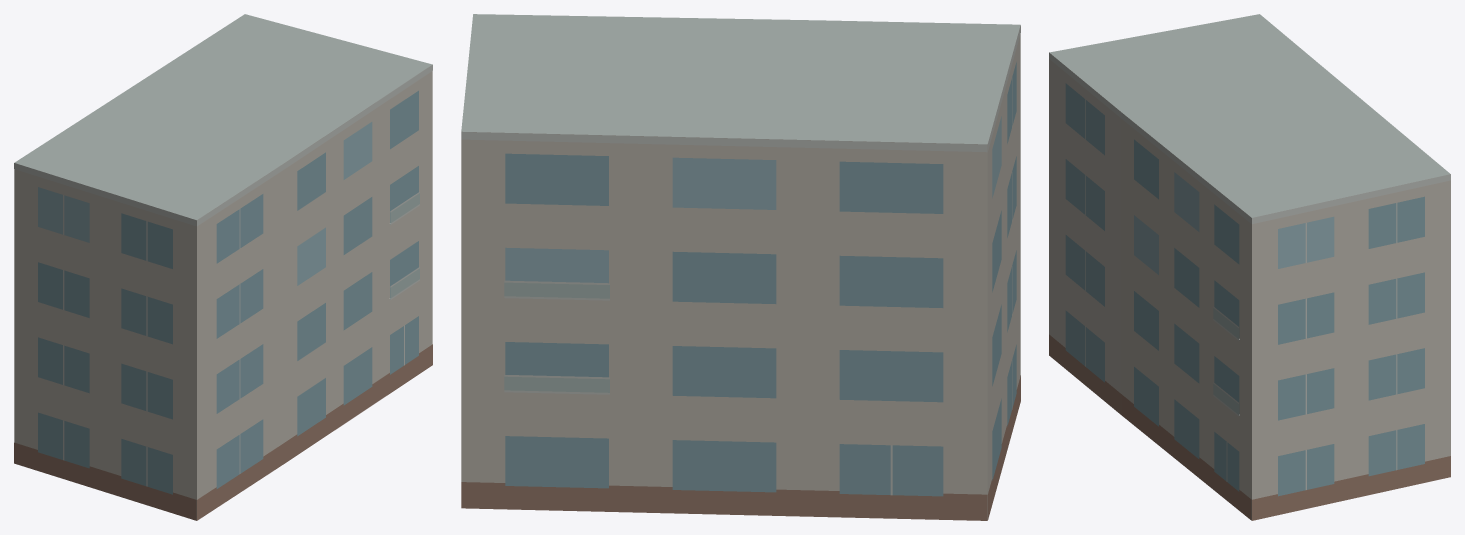
Rendered from survey-upis-32968563.glb.
The picture shows the model from 3 angles, left to right: view 1: azimuth 30°, elevation 25°; view 2: azimuth 150°, elevation 25°; view 3: azimuth 270°, elevation 25°; orthographic projection. The views are drawn at different scales.
Parts seen in each view (by area): view 1: survey-upis-32968563.tmp; view 2: survey-upis-32968563.tmp; view 3: survey-upis-32968563.tmp.
Part boxes in pixels (left/top/right/bottom): survey-upis-32968563.tmp: left=14, top=14, right=432, bottom=520; survey-upis-32968563.tmp: left=461, top=14, right=1020, bottom=520; survey-upis-32968563.tmp: left=1049, top=14, right=1450, bottom=520.
Bounding box in the file's own units: 16.9 × 11.7 × 14.07.
